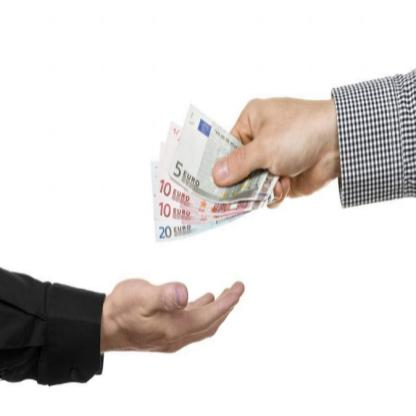billete: (148, 101, 280, 245)
